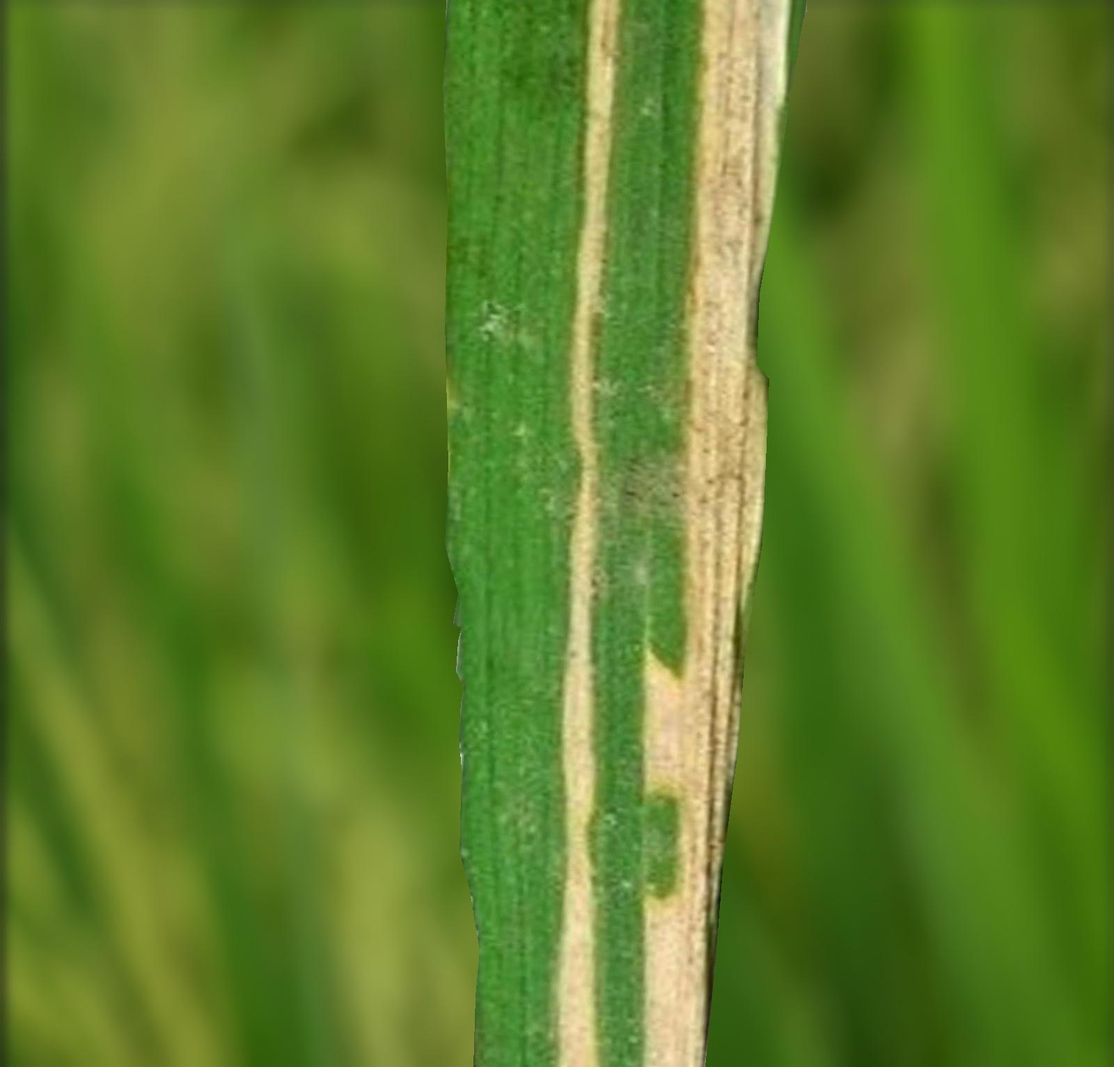BLB: (635, 0, 789, 1066), (548, 0, 625, 1066)
LEAF: (443, 0, 806, 1066)
